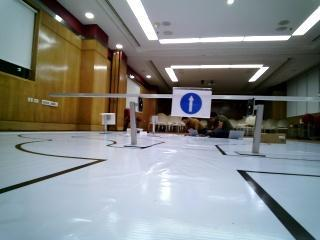straight: (172, 89, 211, 120)
